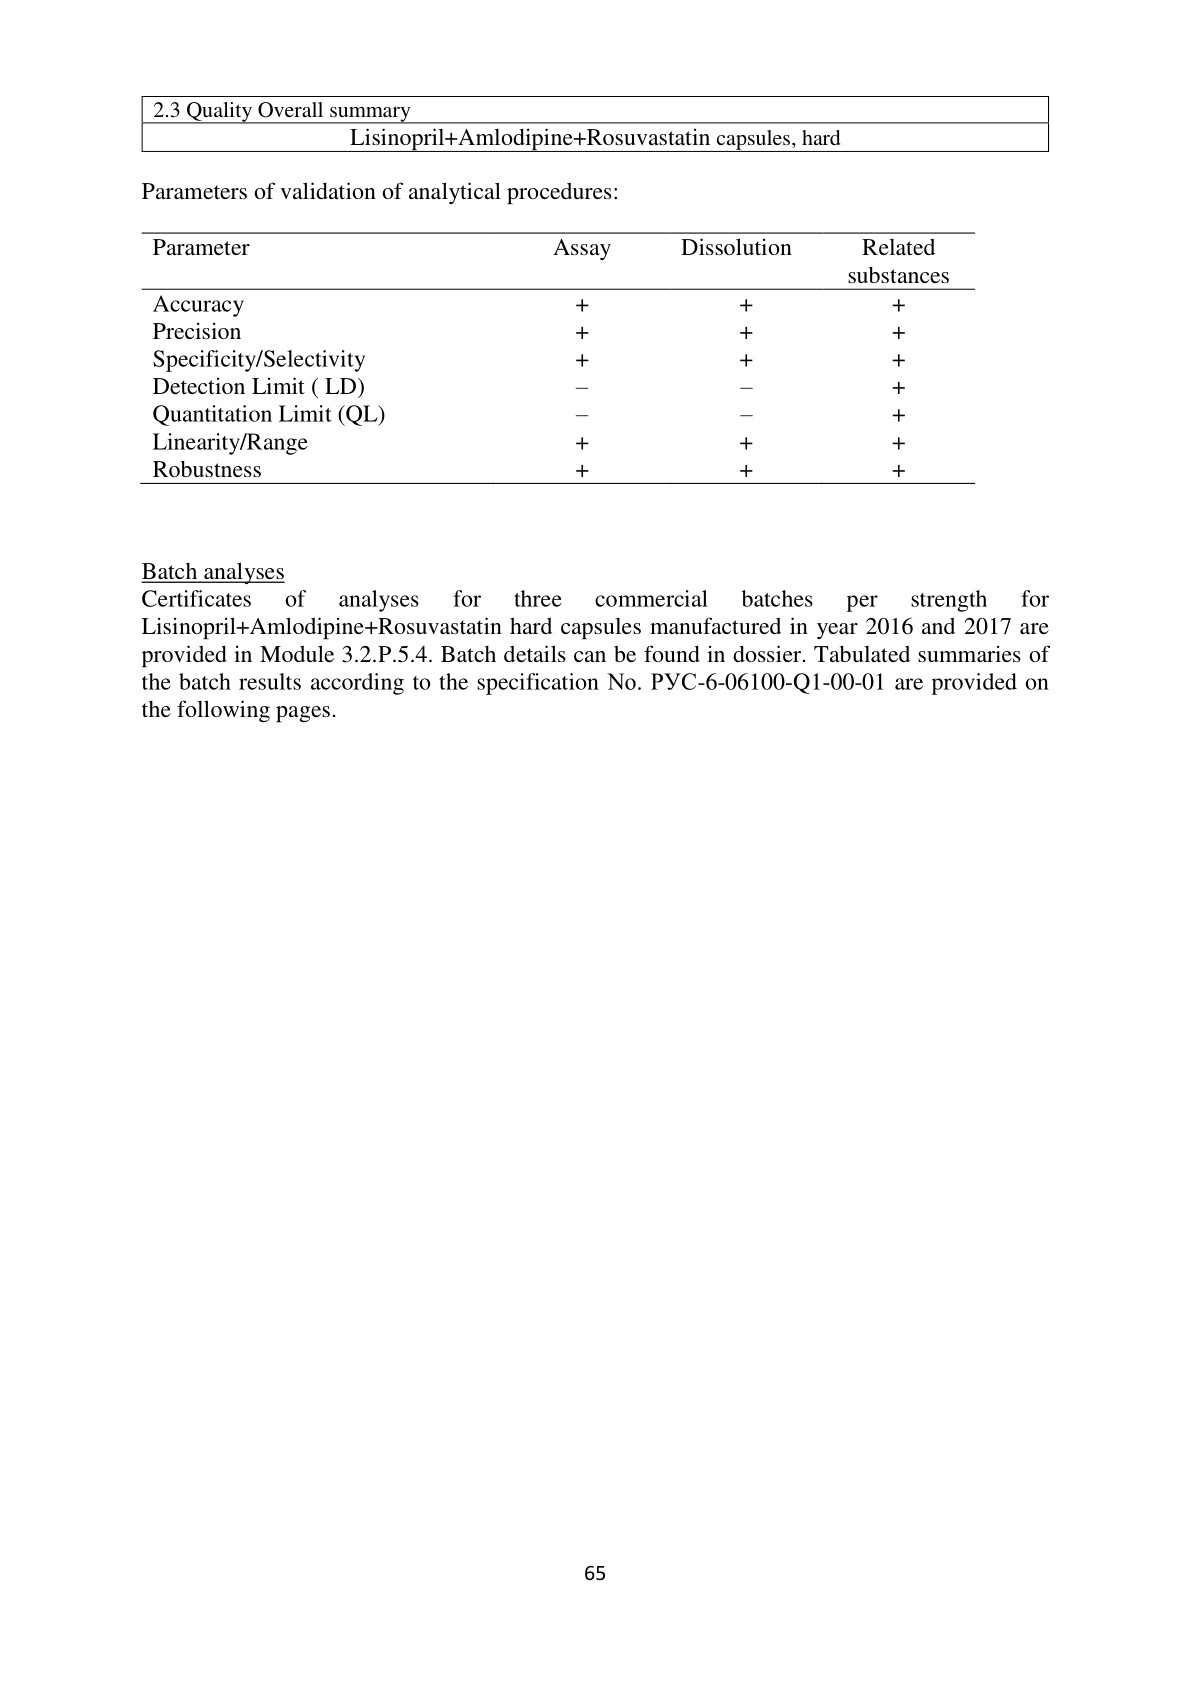full_lined: (140, 94, 1051, 153)
partial_lined: (140, 231, 977, 484)
